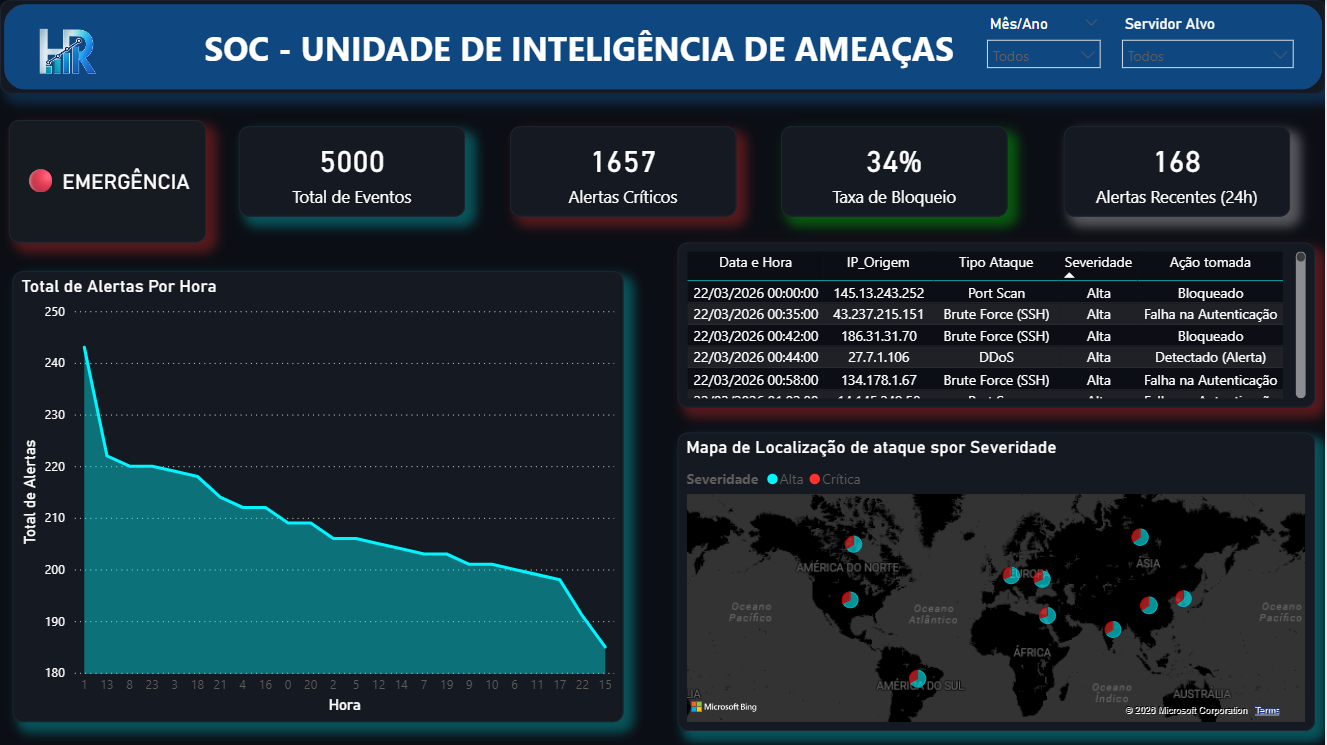

This screenshot's page, from the dashboard's own definition file:
{"tool":"powerbi","page":{"name":"Página 1","canvas":[1280,720],"ordinal":0},"visuals":[{"type":"shape","box":[0,0,1280,90.5],"z":0},{"type":"textbox","box":[101.3,15.7,915.7,70],"z":1000},{"type":"card","fields":{"Values":["Medidas.Status_Risco"]},"box":[8.4,115.8,190.6,118.2],"z":2000},{"type":"slicer","fields":{"Values":["tb_logs_soc_bruto fato_seguranca.Servidor_Alvo"]},"box":[1072.5,9.7,185.8,70],"z":3000},{"type":"image","box":[8.4,9.7,109.8,80.8],"z":4000},{"type":"slicer","fields":{"Values":["tb_logs_soc_bruto dim_calendario_soc.Mes_Ano"]},"box":[942.2,9.7,130.3,70],"z":5000},{"type":"card","fields":{"Values":["Medidas.Total_Alertas"]},"box":[230.4,121.9,218.4,86.9],"z":6000},{"type":"card","fields":{"Values":["Medidas.Alertas_Criticos"]},"box":[492.2,121.9,218.4,86.9],"z":7000},{"type":"card","fields":{"Values":["Medidas.Taxa_Bloqueio"]},"box":[754,121.9,218.4,86.9],"z":8000},{"type":"card","fields":{"Values":["Medidas.Alertas_24h"]},"box":[1026.7,121.9,218.4,86.9],"z":9000},{"type":"areaChart","title":"Total de Alertas Por Hora","fields":{"Category":["tb_logs_soc_bruto fato_seguranca.Hora"],"Y":["Medidas.Total_Alertas"]},"box":[12.1,261.8,589.9,435.5],"z":10000},{"type":"tableEx","fields":{"Values":["tb_logs_soc_bruto fato_seguranca.Data_Hora","tb_logs_soc_bruto fato_seguranca.IP_Origem","tb_logs_soc_bruto fato_seguranca.Tipo_Ataque","tb_logs_soc_bruto fato_seguranca.Severidade","tb_logs_soc_bruto fato_seguranca.Acao_Tomada"]},"box":[653.9,234,615.3,159.3],"z":11000},{"type":"map","title":"Mapa de Localização de ataque spor Severidade","fields":{"Size":["Medidas.Total_Alertas"],"Category":["tb_logs_soc_bruto fato_seguranca.Pais"],"Series":["tb_logs_soc_bruto fato_seguranca.Severidade"]},"box":[653.9,417.4,615.3,288.3],"z":12000}]}

Visuals, with their boxes in screenshot pixels (x1, y1, x2, y2), scaled from the page's 1280x720 canvas onto the 1327x745 screenshot:
shape: {"x1": 0, "y1": 0, "x2": 1326, "y2": 94}
textbox: {"x1": 105, "y1": 16, "x2": 1054, "y2": 89}
card - Medidas.Status_Risco: {"x1": 9, "y1": 120, "x2": 206, "y2": 242}
slicer - tb_logs_soc_bruto fato_seguranca.Servidor_Alvo: {"x1": 1112, "y1": 10, "x2": 1305, "y2": 82}
image: {"x1": 9, "y1": 10, "x2": 123, "y2": 94}
slicer - tb_logs_soc_bruto dim_calendario_soc.Mes_Ano: {"x1": 977, "y1": 10, "x2": 1112, "y2": 82}
card - Medidas.Total_Alertas: {"x1": 239, "y1": 126, "x2": 465, "y2": 216}
card - Medidas.Alertas_Criticos: {"x1": 510, "y1": 126, "x2": 737, "y2": 216}
card - Medidas.Taxa_Bloqueio: {"x1": 782, "y1": 126, "x2": 1008, "y2": 216}
card - Medidas.Alertas_24h: {"x1": 1064, "y1": 126, "x2": 1291, "y2": 216}
"Total de Alertas Por Hora" areaChart: {"x1": 13, "y1": 271, "x2": 624, "y2": 722}
tableEx - tb_logs_soc_bruto fato_seguranca.Data_Hora x tb_logs_soc_bruto fato_seguranca.IP_Origem: {"x1": 678, "y1": 242, "x2": 1316, "y2": 407}
"Mapa de Localização de ataque spor Severidade" map: {"x1": 678, "y1": 432, "x2": 1316, "y2": 730}
